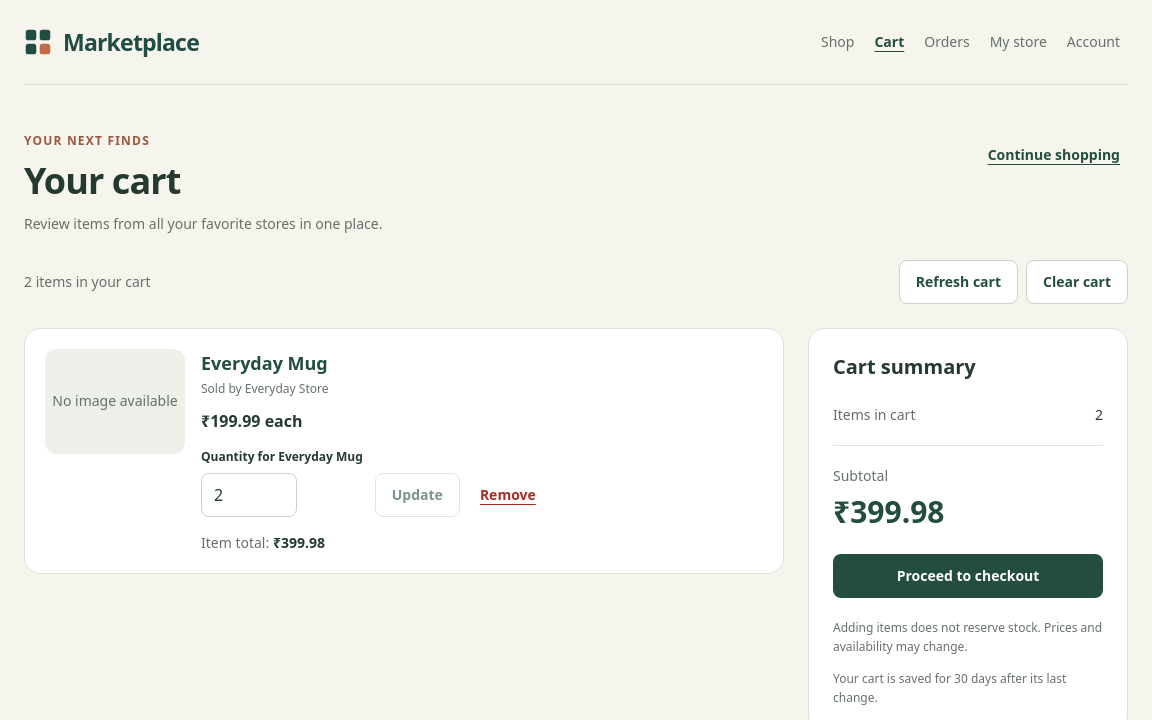
clearing the cart requires its inline confirmation
Expected: the text "2 items in your cart" is shown, 24,272 -> 151,292
Click the button "Clear cart" at (1077, 282), box 1026,260 -> 1128,304
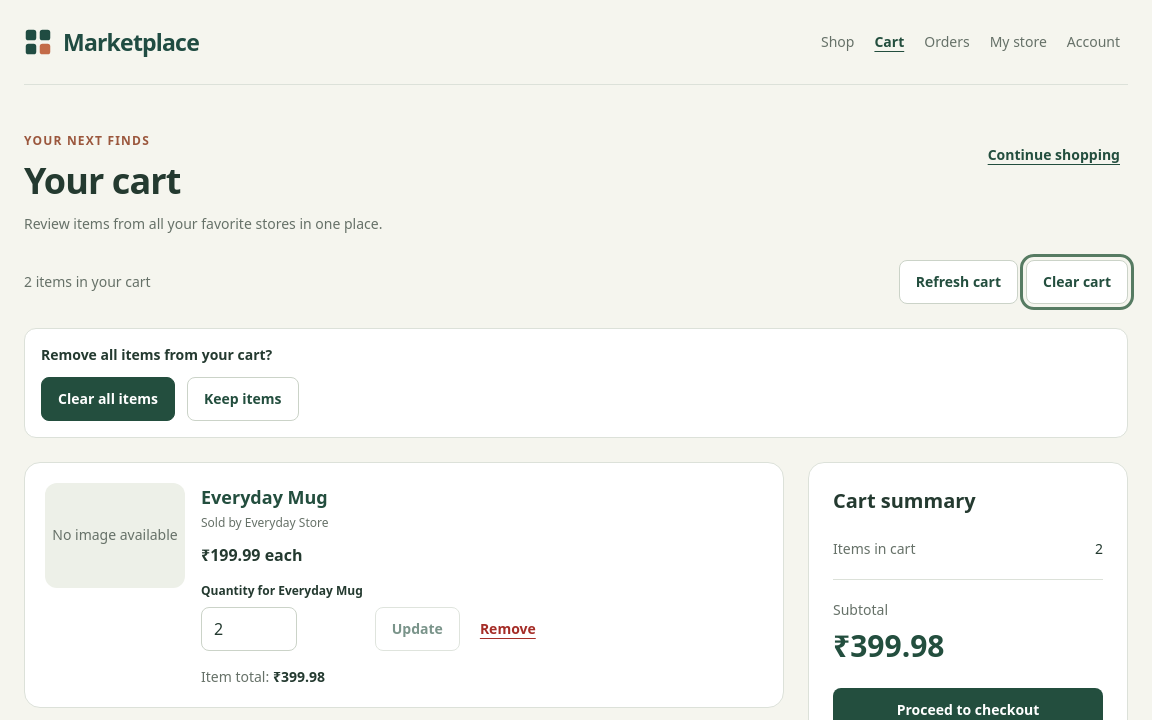
Click the button "Keep items" at (243, 399), box 187,377 -> 299,421
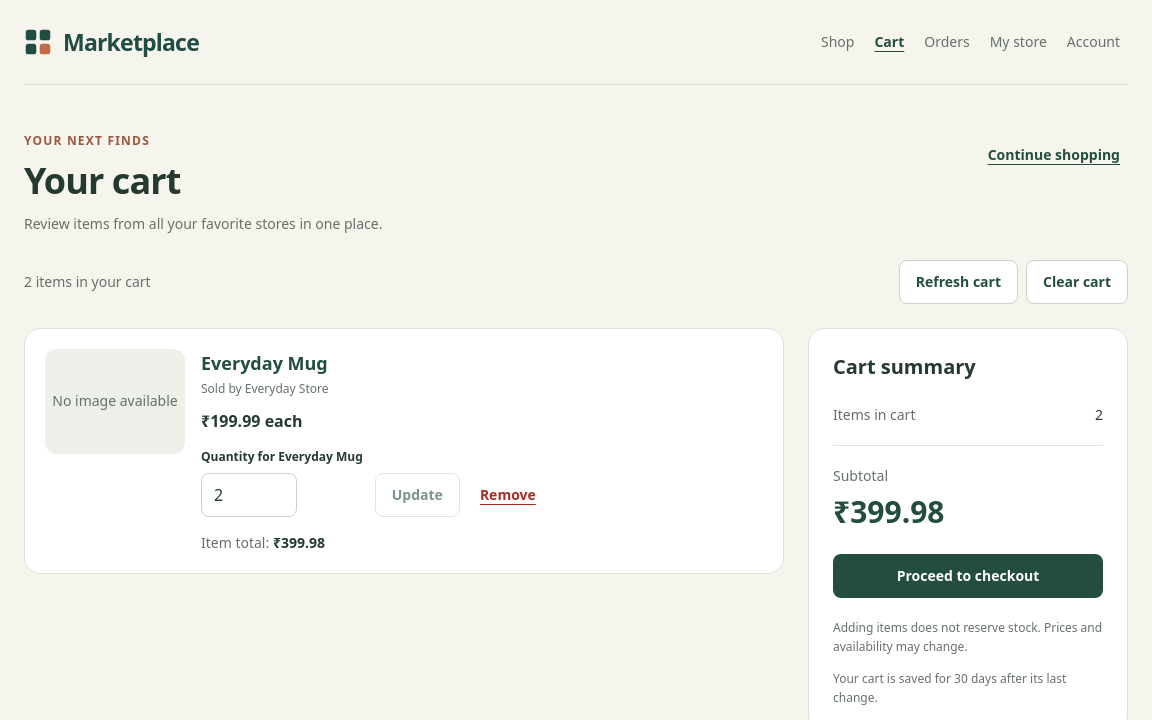
Click the button "Clear cart" at (1077, 282), box 1026,260 -> 1128,304
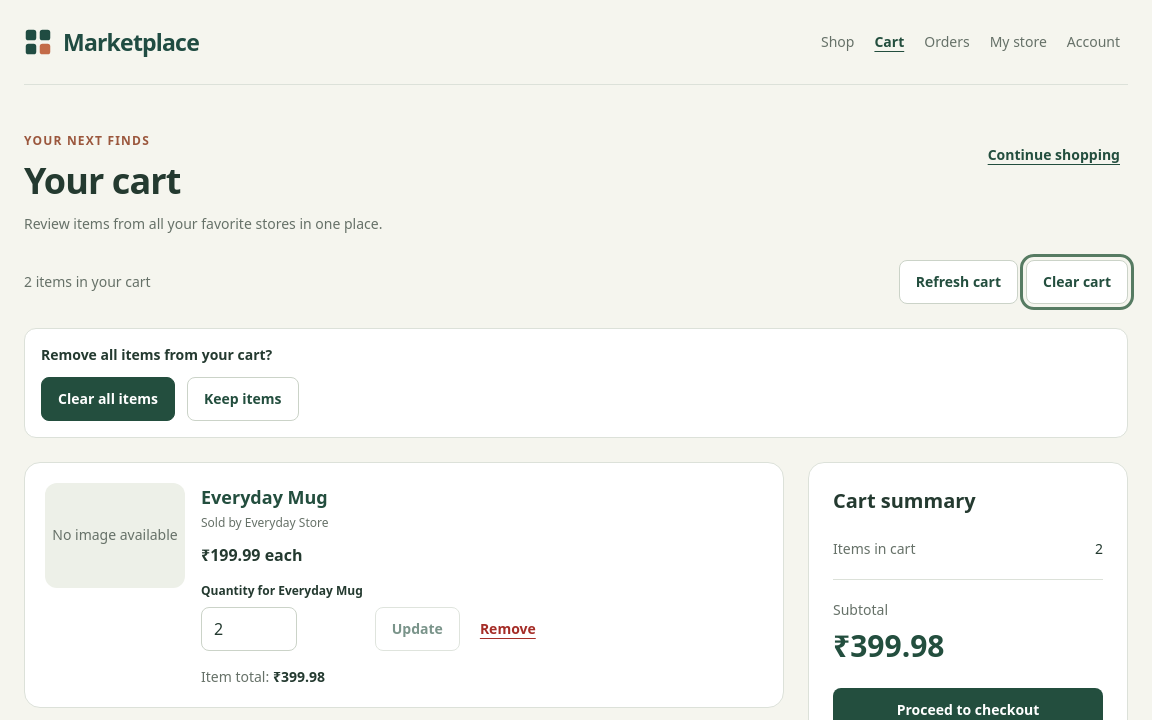
Click the button "Clear all items" at (108, 399), box 41,377 -> 175,421
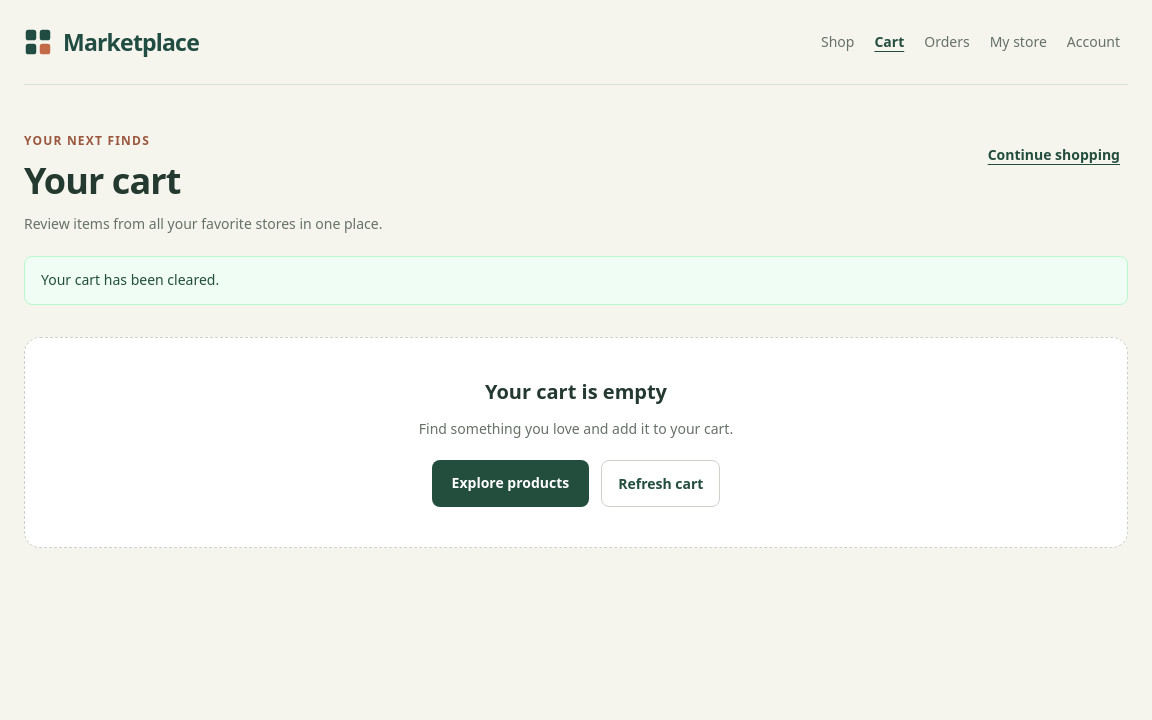
Expected: the heading "Your cart is empty" is shown, 485,378 -> 667,404
